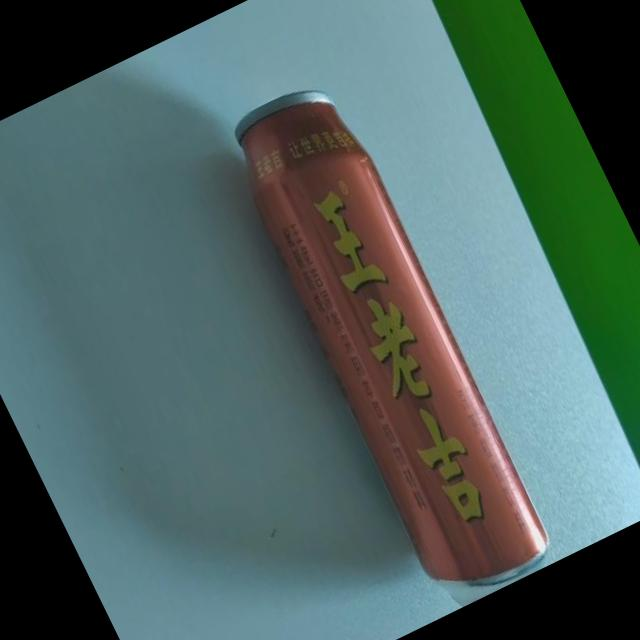Kaleng: (207, 70, 564, 613)
